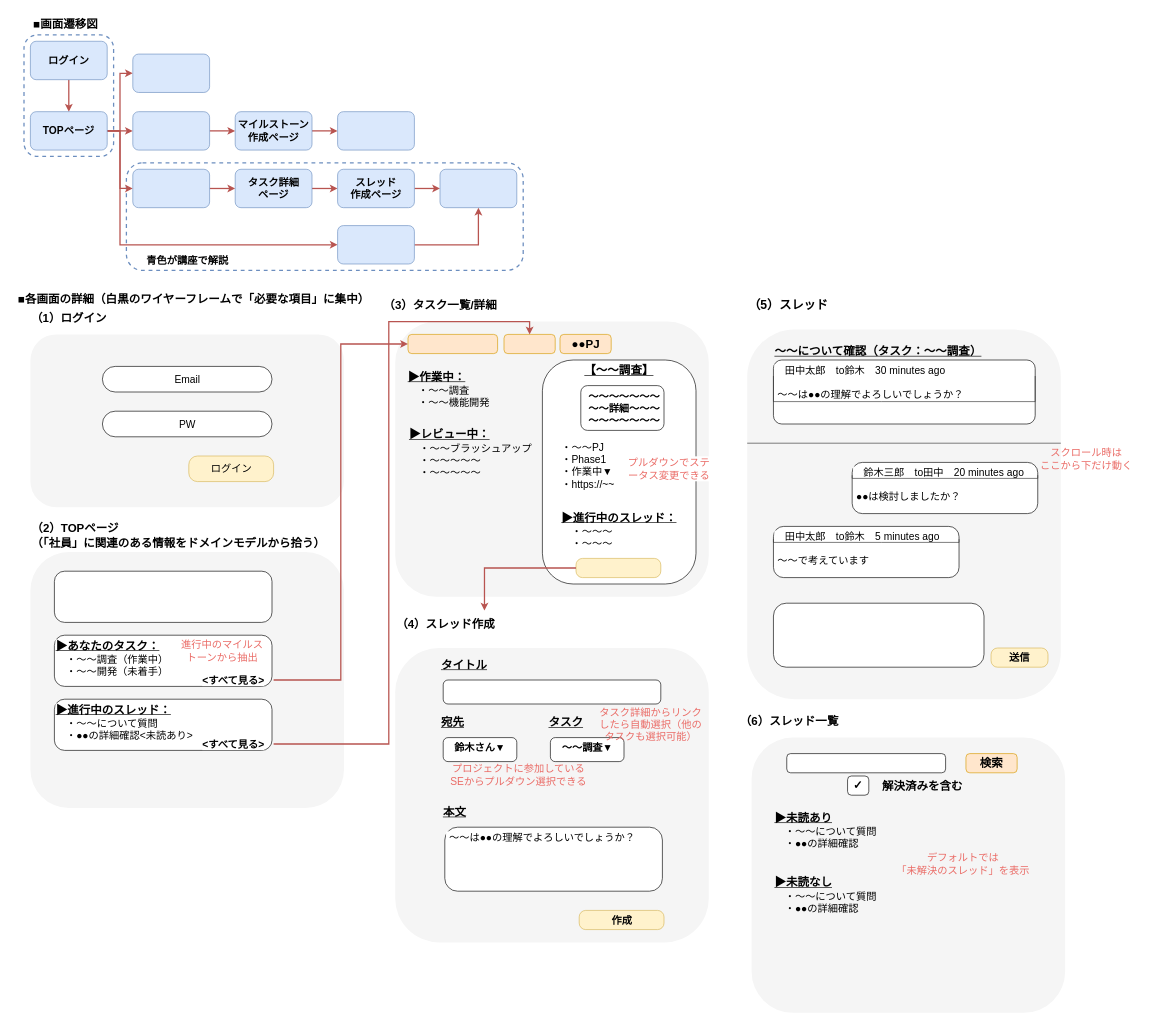
This 1155x1023 diagram has some shape labels left out. The shapes that lost their labels are listed below. From the top down, each one's centre as x and y in pixels, then its label:
(171,72): 進捗確認 ページ
(171,130): プロジェクト 作成ページ
(375,130): タスク 作成ページ
(171,188): タスク一覧 ページ
(478,188): スレッド
(375,244): スレッド 一覧ページ
(452,344): 全てのタスク
(529,344): ～～PJ
(618,568): スレッド作成
(163,596): ▶参加プロジェクト： ・～～PJ ・●●PJ
(552,691): ～～について確認
